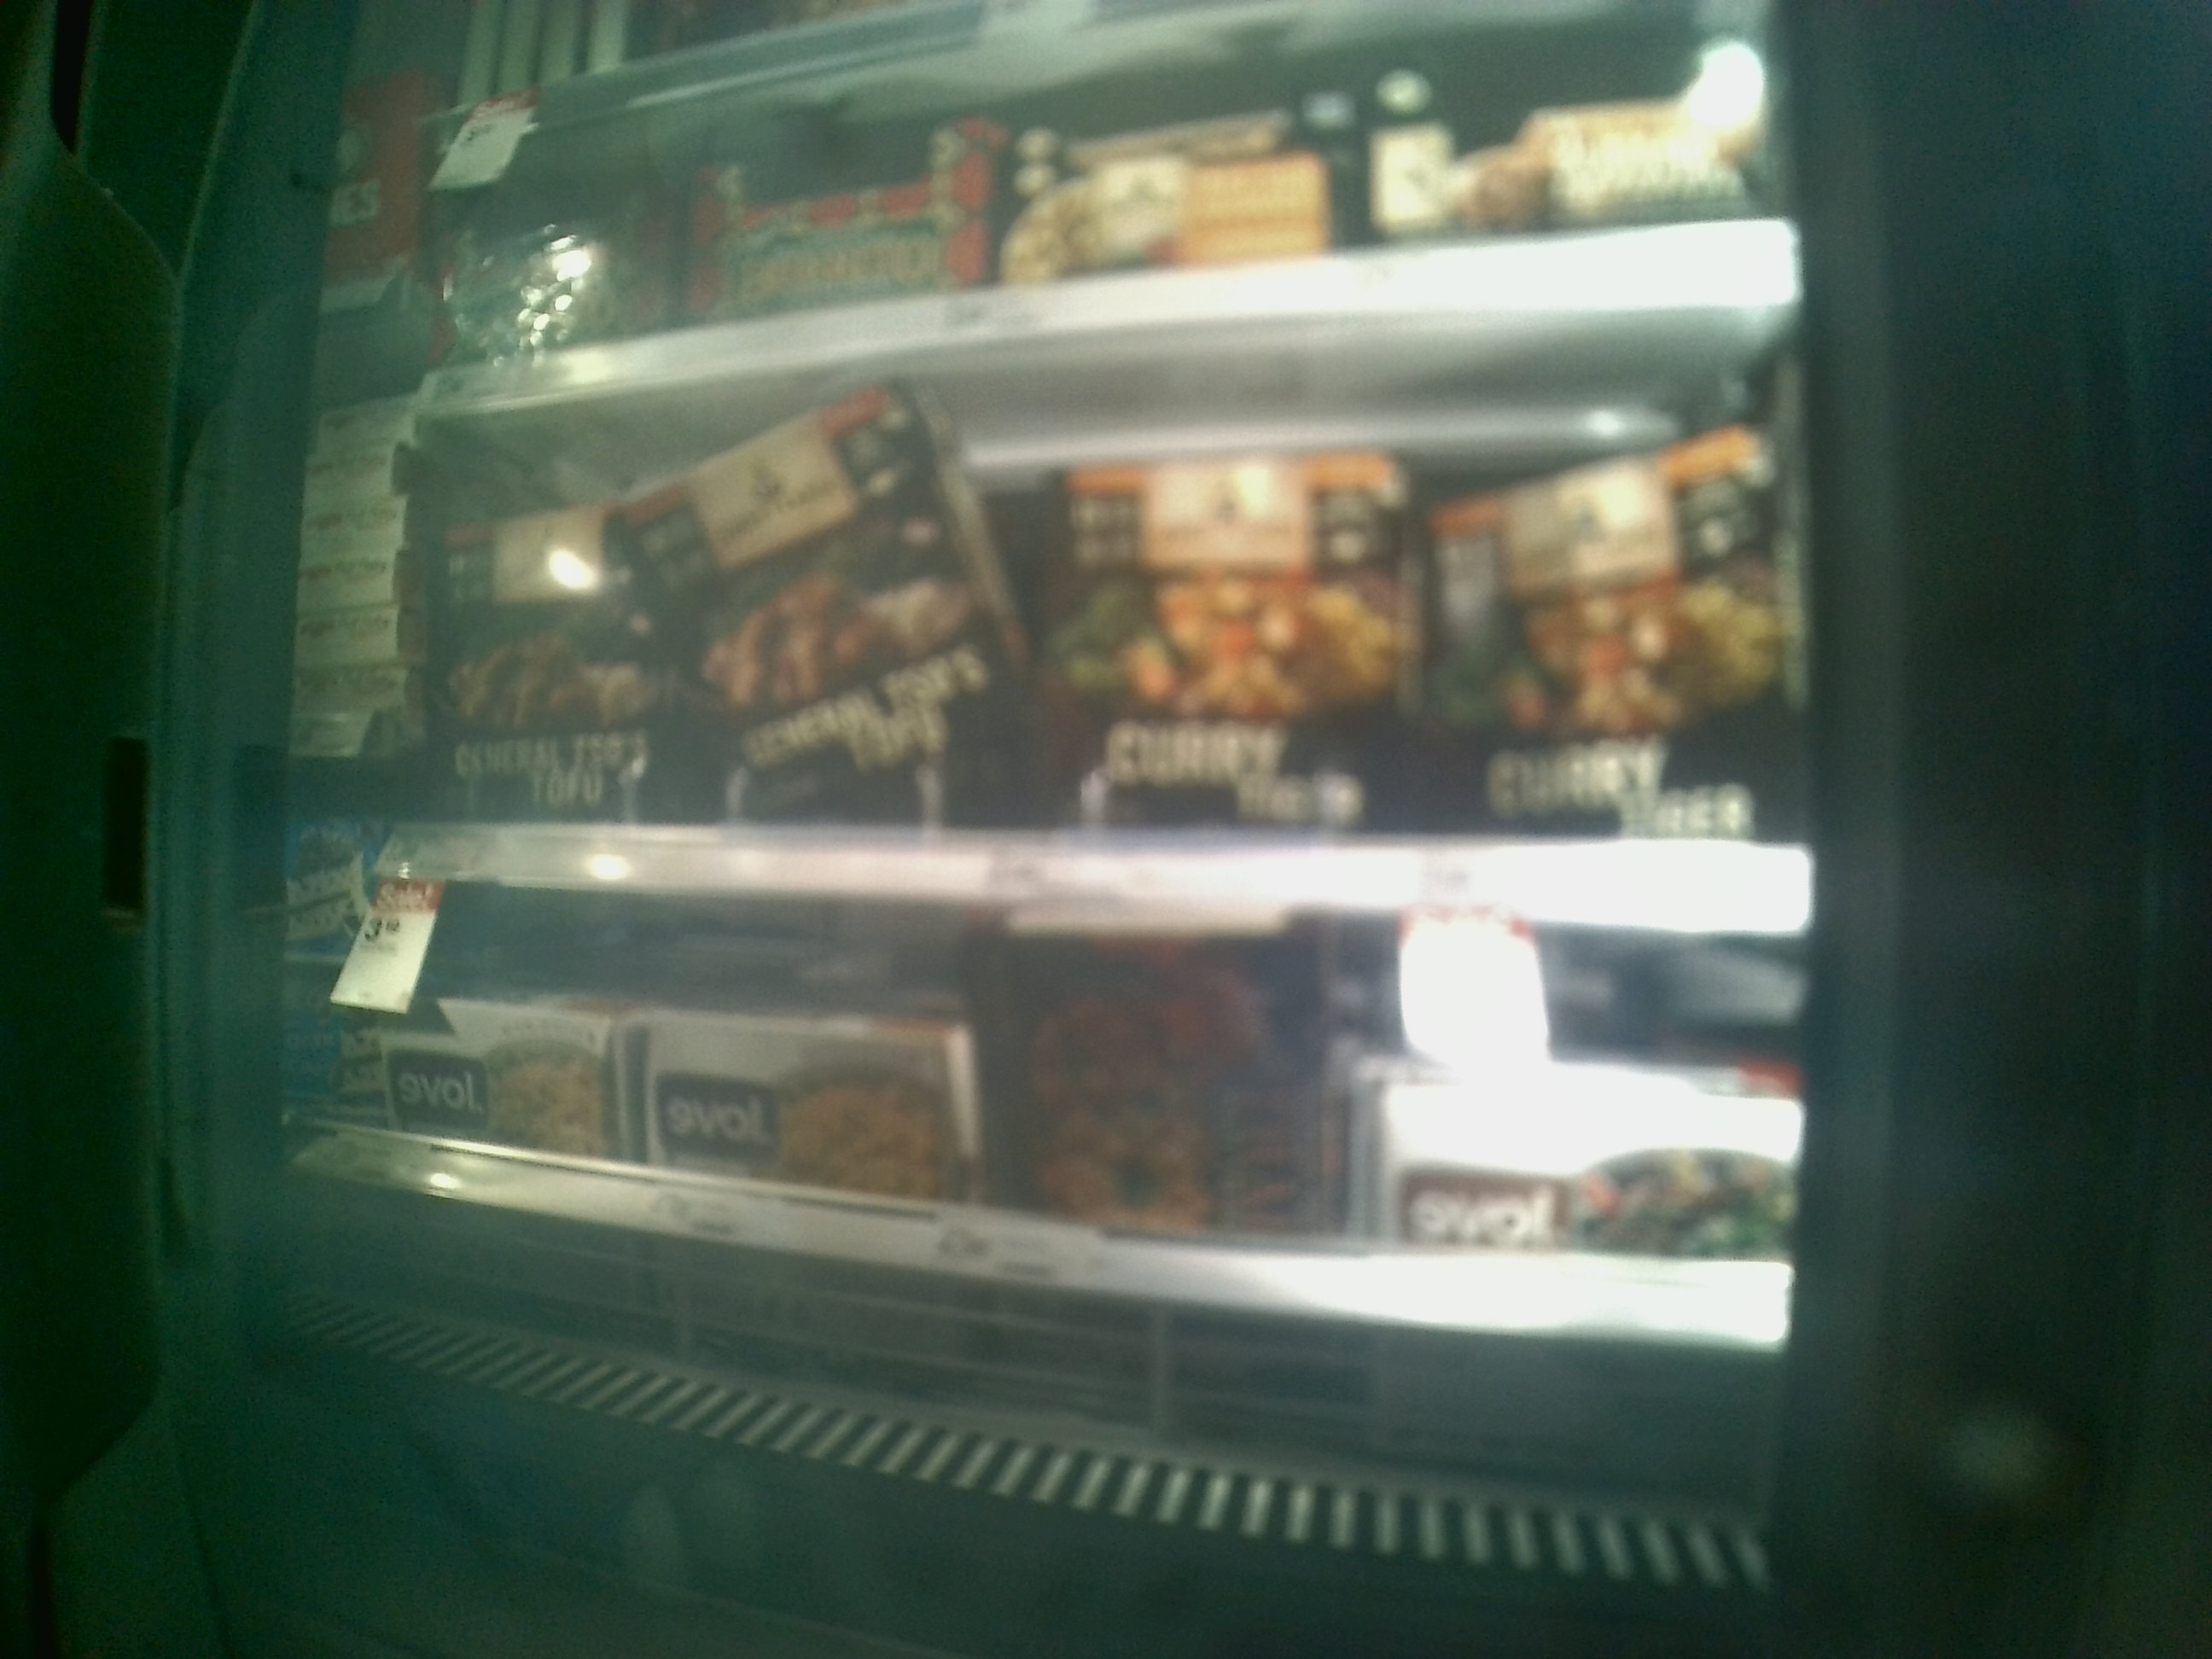frozen-food-shelf: (361, 416, 1820, 924), (270, 932, 1801, 1338)
